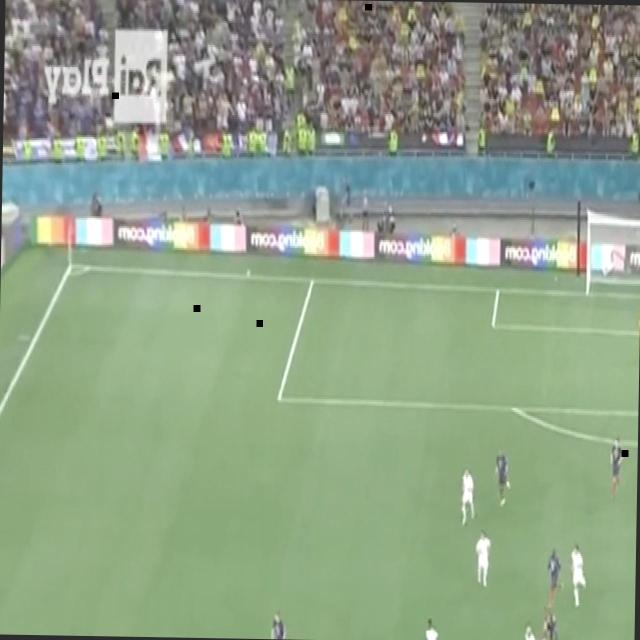player-white: (545, 546, 565, 610), (569, 542, 587, 610), (608, 436, 625, 503), (474, 529, 492, 591), (494, 447, 512, 507), (460, 466, 475, 526), (270, 607, 294, 640), (422, 615, 450, 640), (542, 604, 560, 640), (524, 622, 538, 640), (637, 298, 640, 359)
